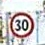limite 30: (9, 12, 34, 37)
